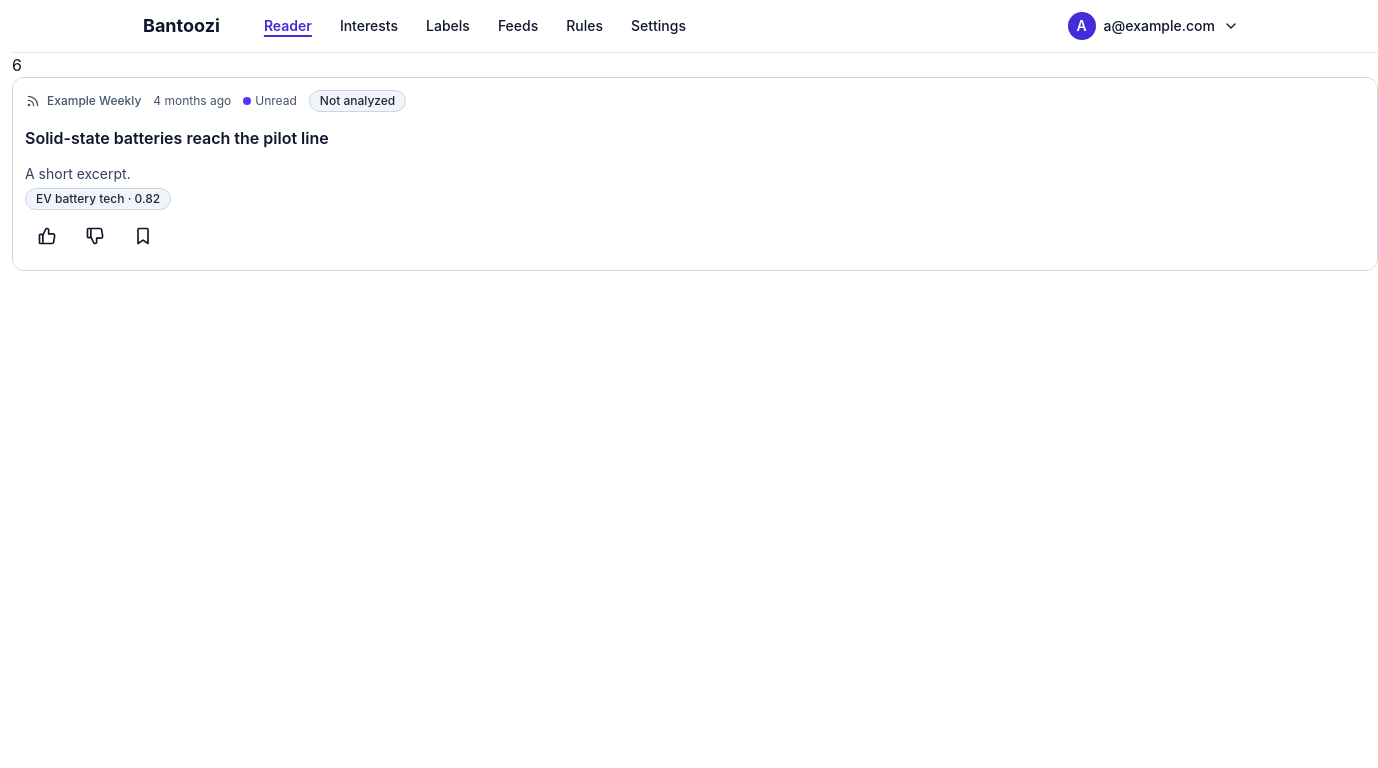
Scenario: reader actions in the signed-in app › rolls a rating the server refused back, says so, and resends it from the toast
This screenshot has width=1378, height=768.
Check: the element named "Solid-state batteries reach the pilot line" is shown, box x1=12 y1=77 x2=1377 y2=271
Click the button named "Like": (47, 236) x1=25 y1=214 x2=69 y2=258
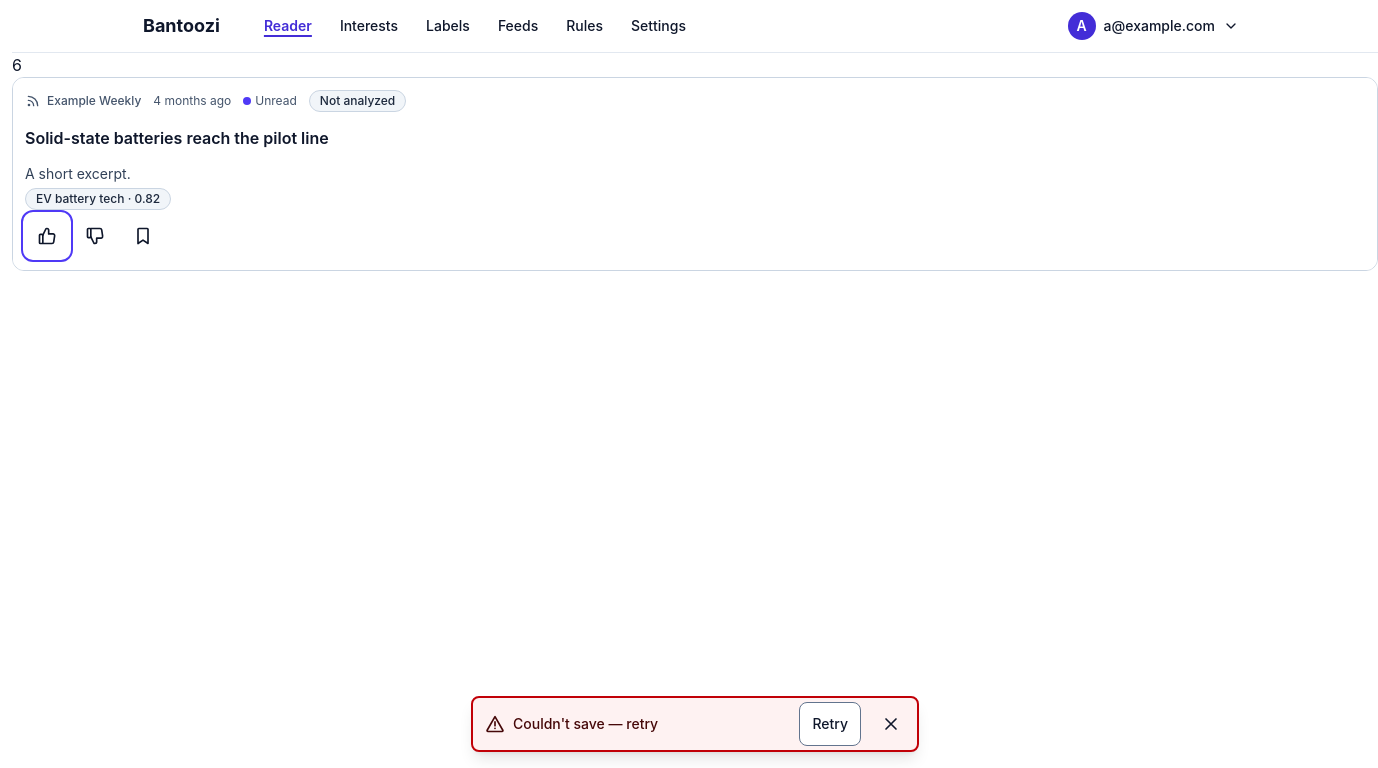
Check: the text "Unread" is shown, box x1=243 y1=93 x2=297 y2=109
Click the button "Retry": (830, 724) x1=799 y1=702 x2=861 y2=746
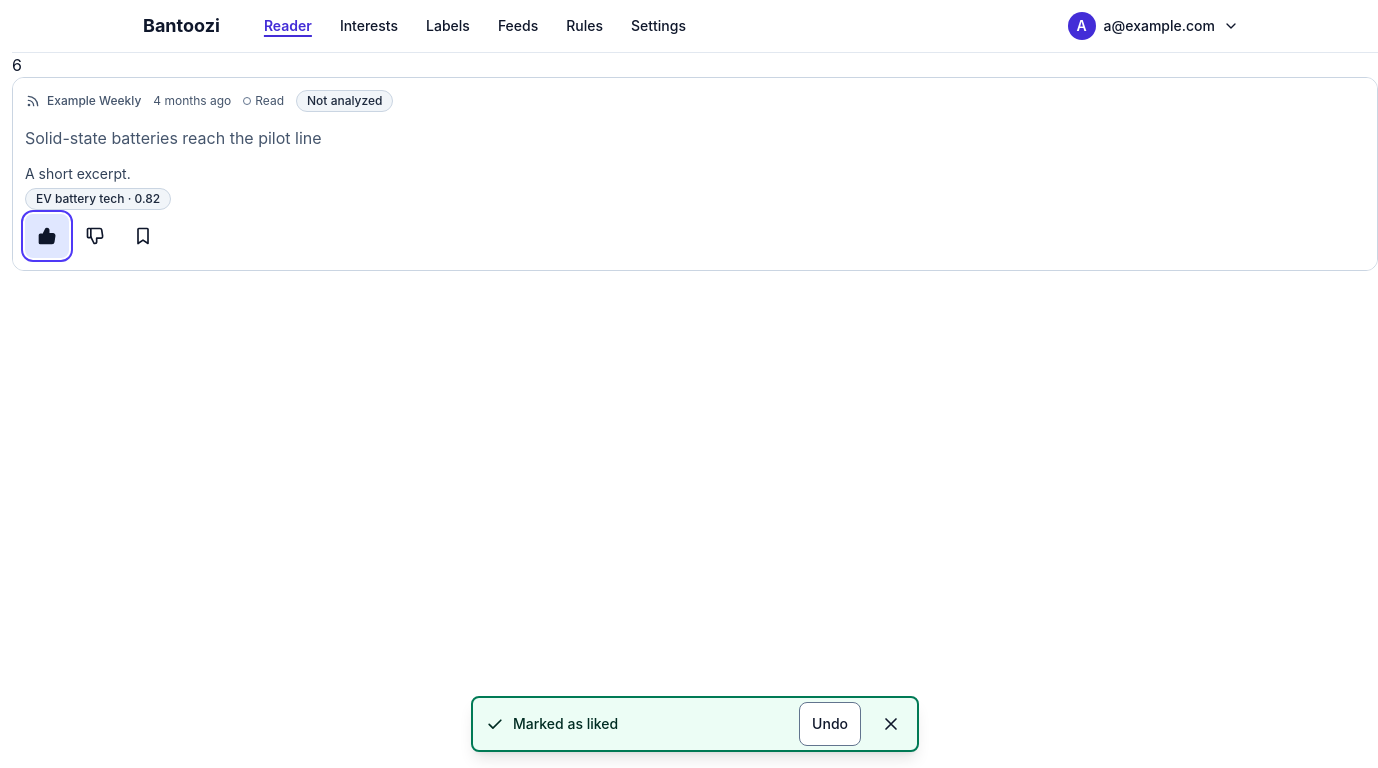
Check: the text "Couldn't save — retry" is gone
